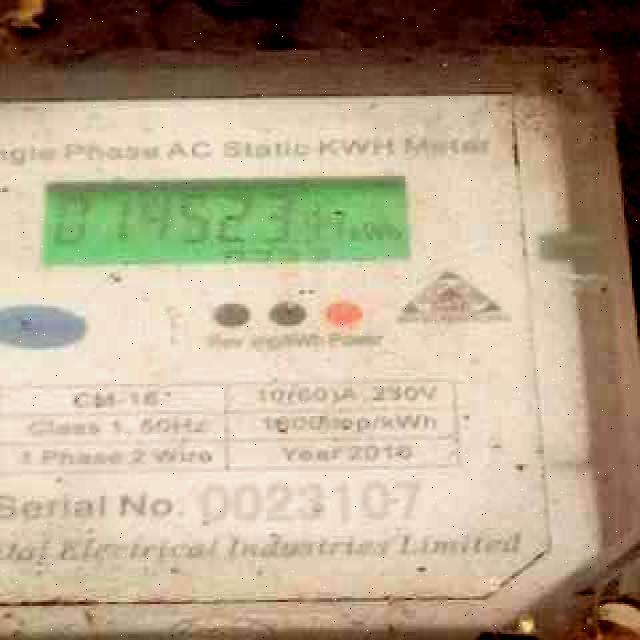LCD: (31, 169, 424, 272)
